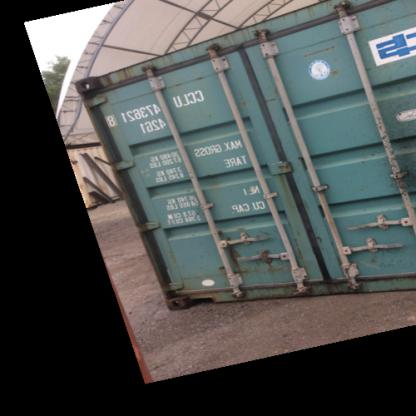Damage: (369, 84, 415, 198), (345, 252, 407, 286), (236, 243, 282, 283)
